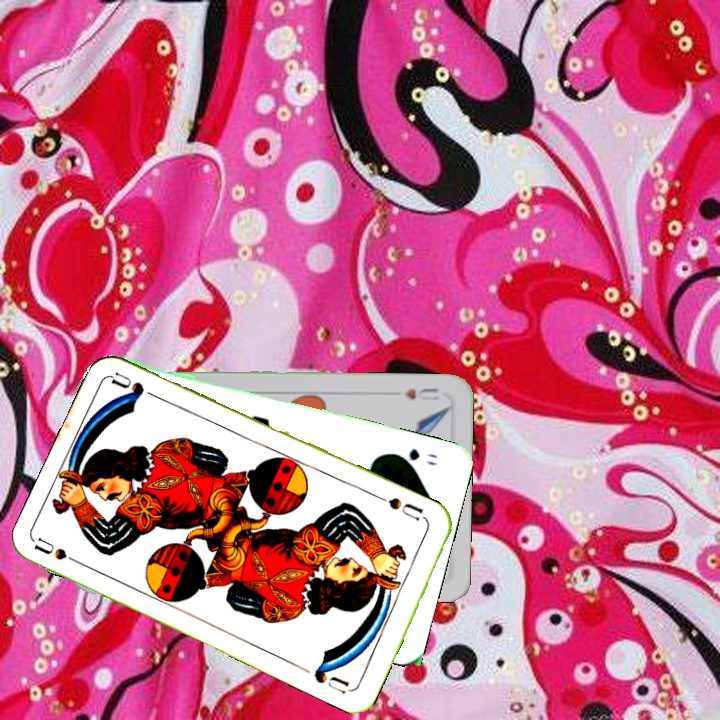GO: (387, 444, 440, 468)
HU: (400, 383, 441, 403)
SU: (32, 534, 89, 570), (376, 493, 426, 524)
